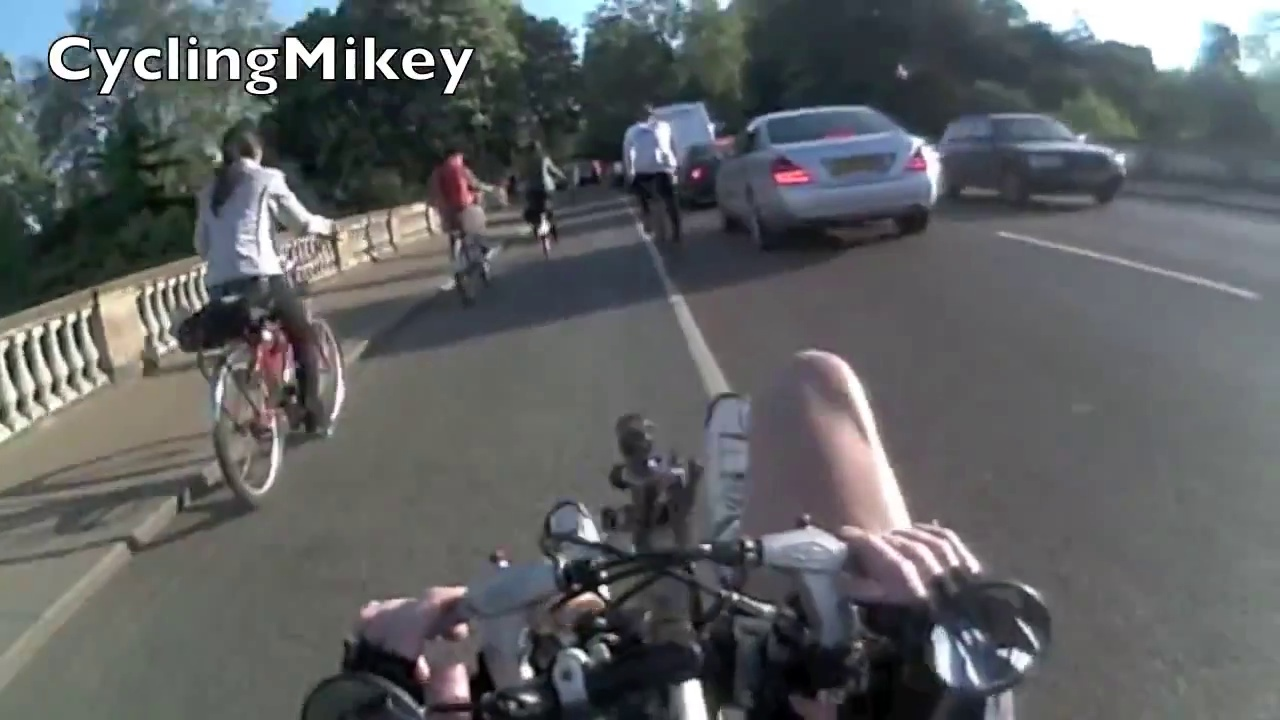cyclist_back: (164, 116, 356, 503), (428, 134, 500, 316), (624, 101, 687, 286), (519, 133, 564, 263)
